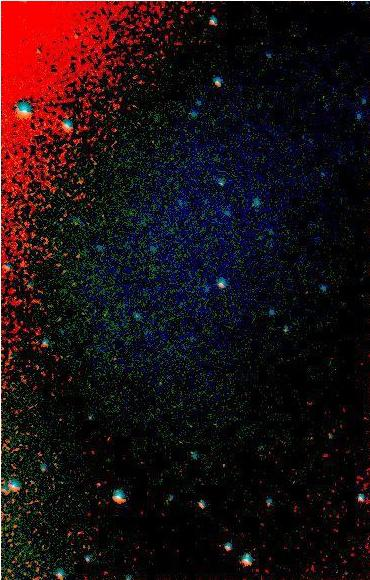star: (85, 470, 115, 500)
